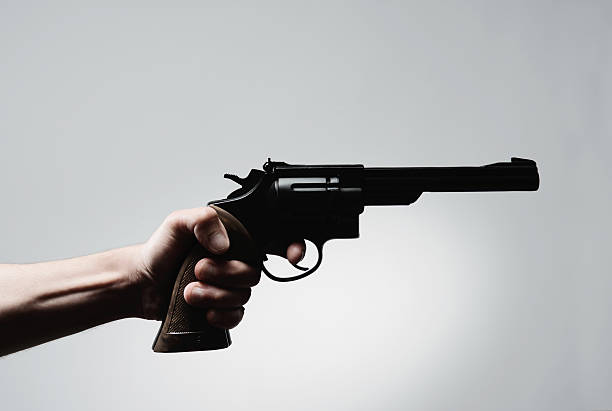pistol: (155, 151, 541, 357)
